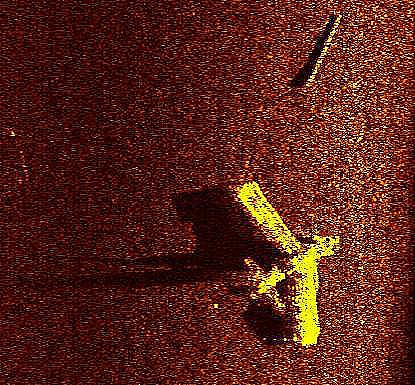aircraft: (233, 179, 339, 347)
